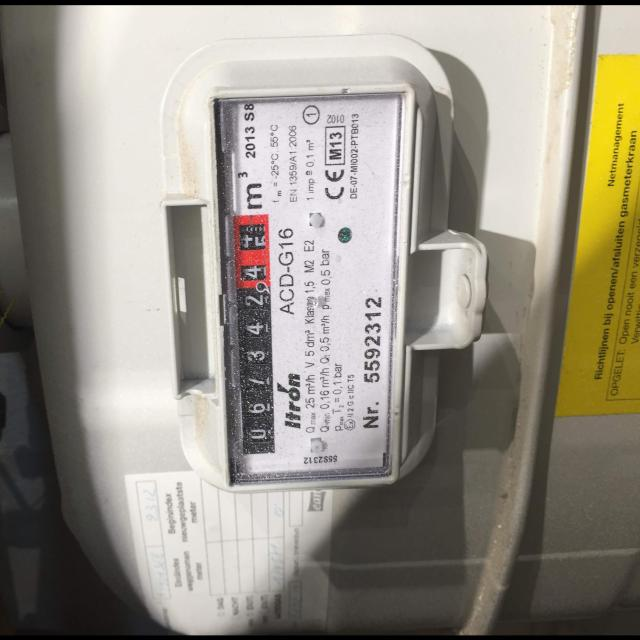gaz_meter: (215, 94, 389, 476)
indication: (233, 212, 276, 454)
